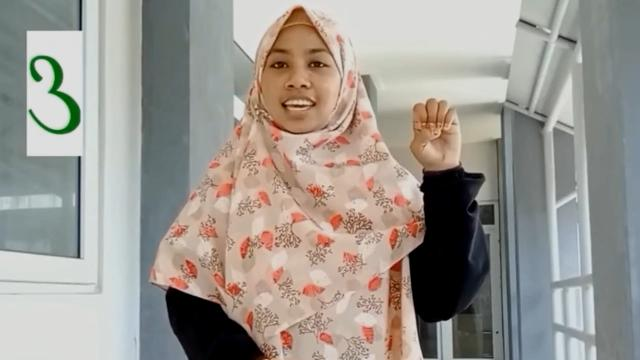E: (408, 93, 462, 169)
